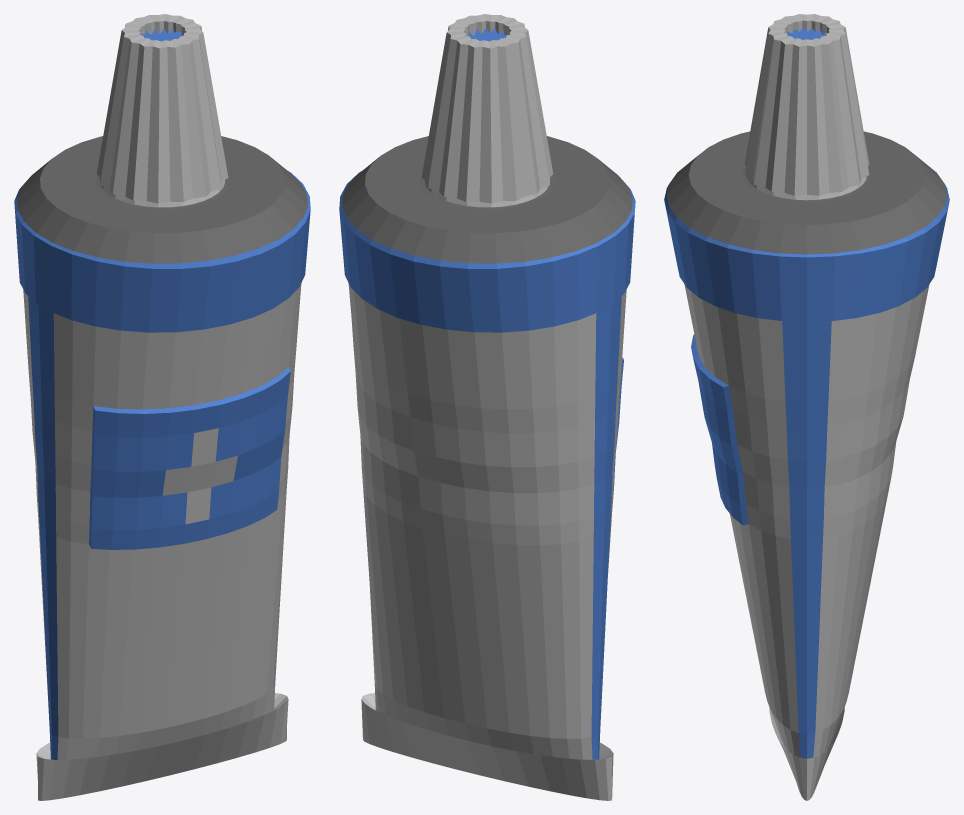
File: pomada.fbx
The picture shows the model from 3 angles, left to right: view 1: azimuth 30°, elevation 25°; view 2: azimuth 150°, elevation 25°; view 3: azimuth 270°, elevation 25°; orthographic projection. The views are drawn at different scales.
Parts seen in each view (by area): view 1: Cylinder.003; view 2: Cylinder.003; view 3: Cylinder.003.
Boxes of the visible parts, x1,y1,x2,y2 form: Cylinder.003: (14, 14, 310, 800); Cylinder.003: (339, 14, 635, 800); Cylinder.003: (664, 14, 949, 800).
Size of the model in its own units: 204 by 560 by 204.
